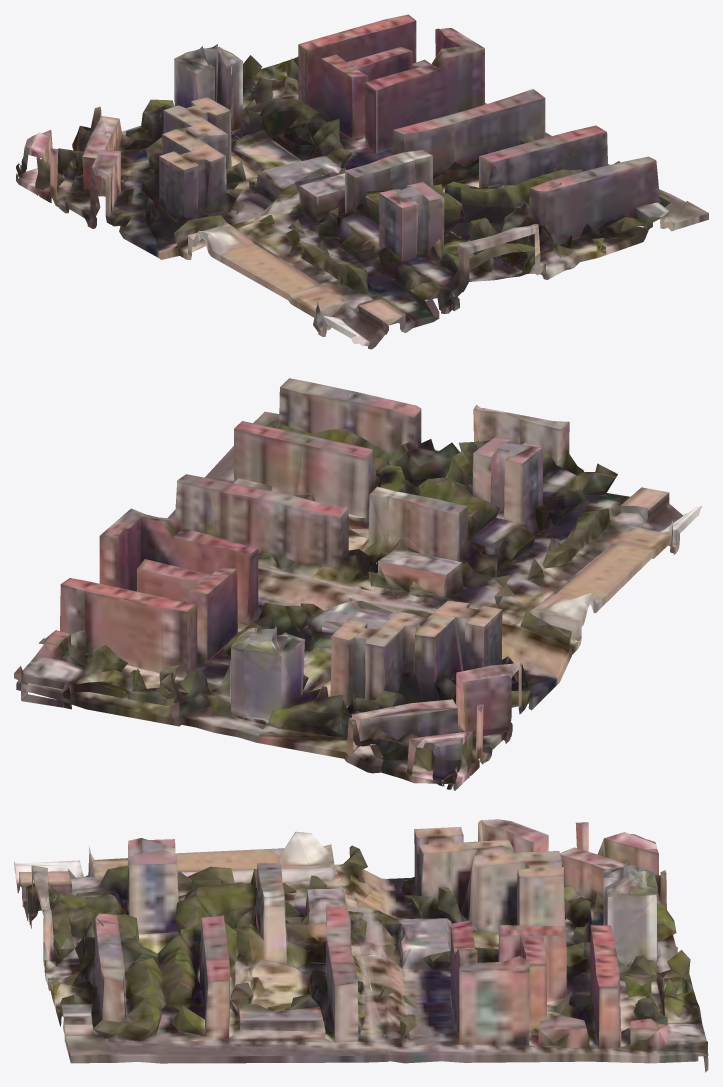
3 views of the same model, one above another, from view 1: azimuth 30°, elevation 25°; view 2: azimuth 150°, elevation 25°; view 3: azimuth 270°, elevation 25° (orthographic). The views are drawn at different scales.
Visible parts, largest first — view 1: Mesh_0; view 2: Mesh_0; view 3: Mesh_0.
Boxes of the visible parts, x1=… form: Mesh_0: x1=16, y1=14, x2=708, y2=349; Mesh_0: x1=14, y1=378, x2=701, y2=790; Mesh_0: x1=14, y1=819, x2=708, y2=1072.
Bounding box in the file's own units: 268 × 68.14 × 330.
1 material, 1 textured.
